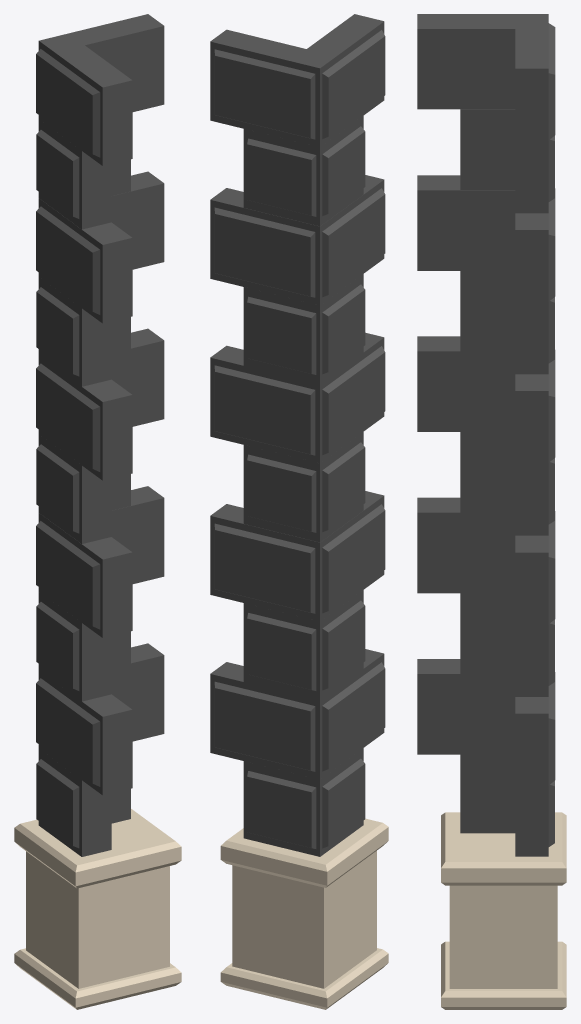
Rendered from side building details.fbx.
3 views of the same model, side by side, from view 1: azimuth 30°, elevation 25°; view 2: azimuth 150°, elevation 25°; view 3: azimuth 270°, elevation 25° (orthographic). The views are drawn at different scales.
Parts seen in each view (by area): view 1: side_details9_pCube12; view 2: side_details9_pCube12; view 3: side_details9_pCube12.
Part boxes in pixels (x1,y1,x2,y2): side_details9_pCube12: (14, 14, 181, 1009); side_details9_pCube12: (210, 14, 388, 1009); side_details9_pCube12: (417, 14, 566, 1009).
Bounding box in the file's own units: 2.2 × 15.63 × 2.22.
